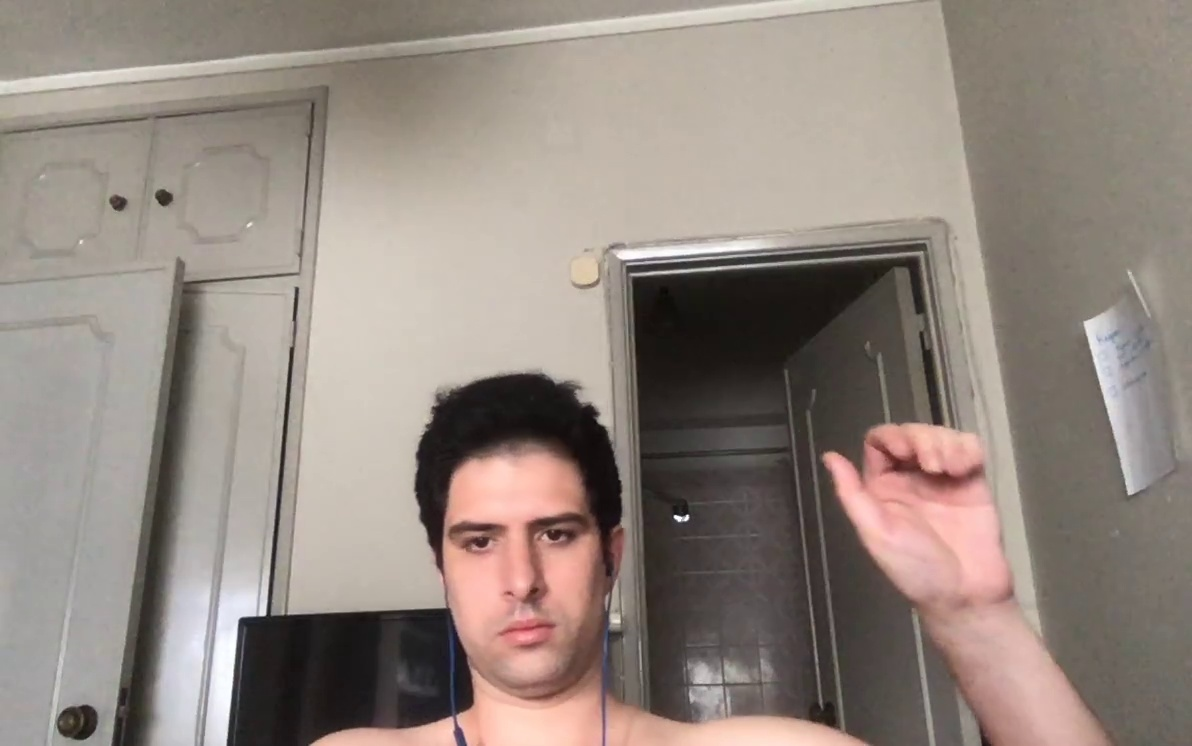c: (822, 416, 1021, 617)
